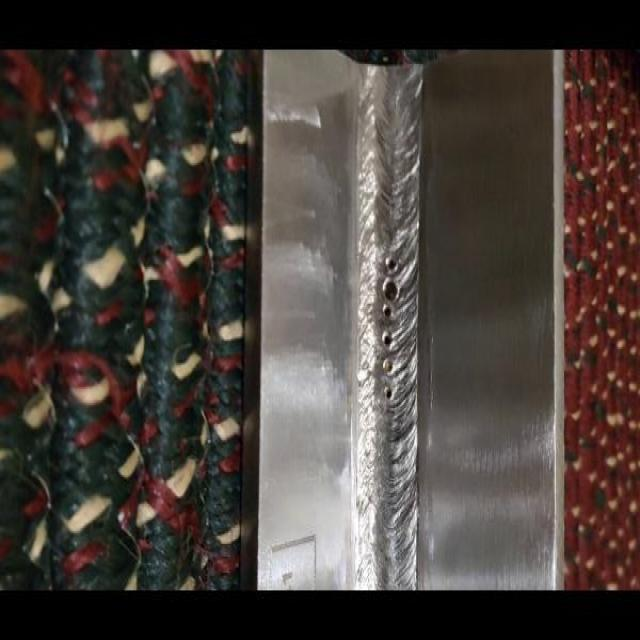Welding Line: (361, 70, 416, 590)
Workpiece: (257, 51, 562, 587)
porosity: (381, 251, 397, 397)
